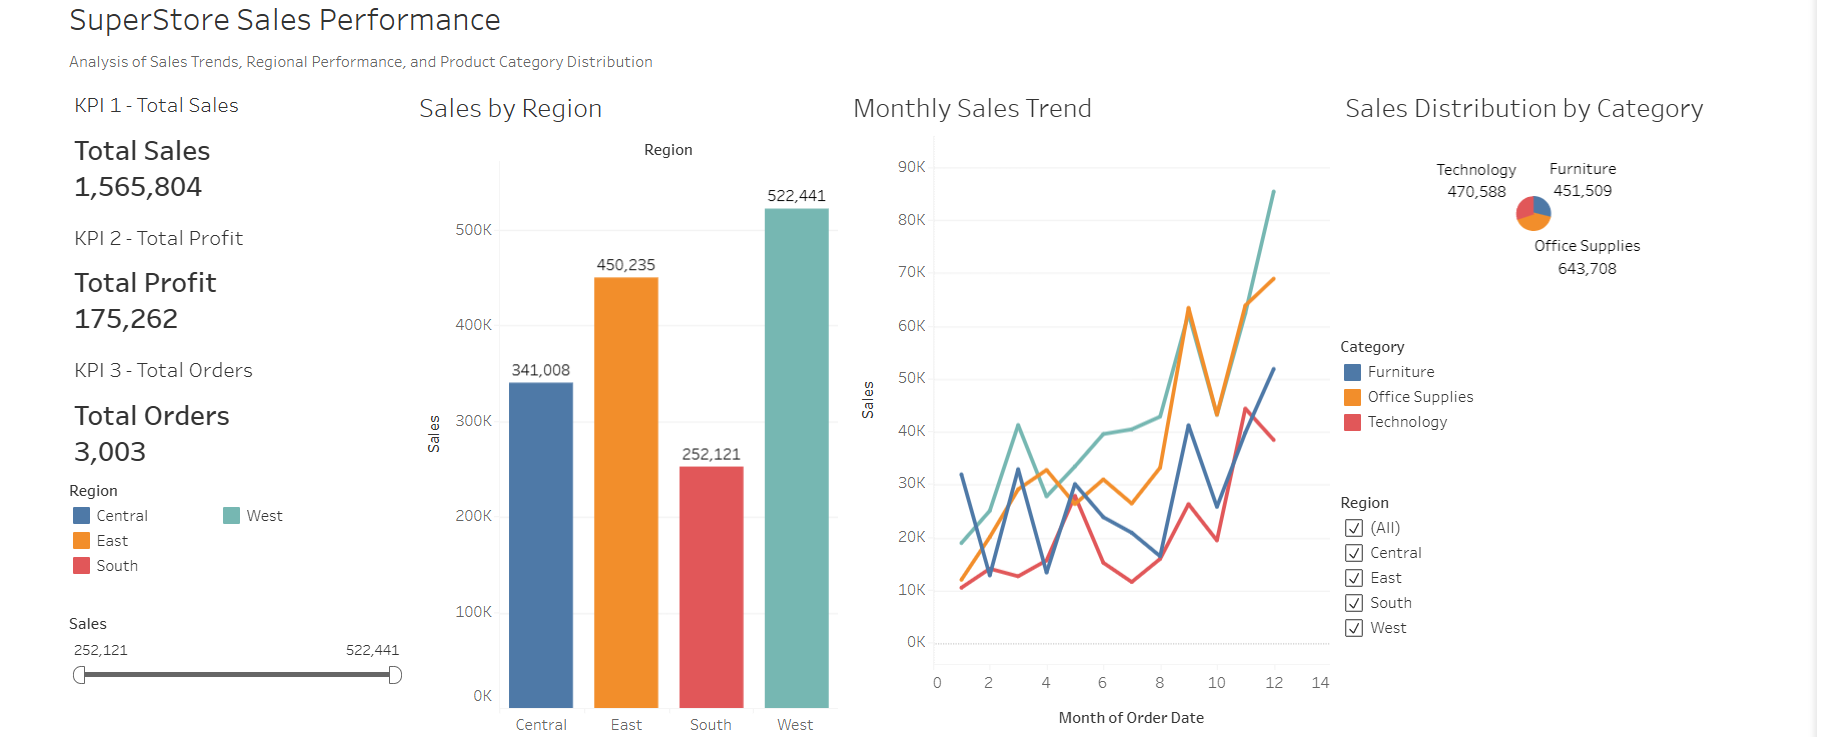

What the dashboard file says about the page in this screenshot:
{"tool":"tableau","page":{"name":"KPI CARD Dashboard","canvas":[1000,1000],"units":"permille","ordinal":0},"visuals":[{"type":"title","box":[5.9,10.5,988.1,56.6]},{"type":"text","box":[5.9,67.1,988.1,38.2]},{"type":"worksheet","title":"KPI 1 - Total Sales ","mark":"Text","box":[5.9,105.3,204.4,181.9]},{"type":"worksheet","title":"Sales by Region","mark":"Bar","rows":["Sales"],"cols":["Region"],"box":[210.4,105.3,257,884.2]},{"type":"worksheet","title":"Monthly Sales Trend","mark":"Line","rows":["Sales"],"cols":["Order Date"],"box":[467.4,105.3,291.9,884.2]},{"type":"worksheet","title":"Sales Distribution by Category","mark":"Pie","box":[759.3,105.3,234.8,377.6]},{"type":"worksheet","title":"KPI 2 - Total Profit ","mark":"Text","box":[5.9,287.2,204.4,181.9]},{"type":"worksheet","title":"KPI 3 - Total Orders ","mark":"Text","box":[5.9,469.1,204.4,181.9]},{"type":"legend","title":"Sales Distribution by Category","param":"[federated.0gc5zgn15yeydn1fw0qmh00zha10].[none:Category:nk]","box":[759.3,482.9,234.8,163.2]},{"type":"filter","title":"Monthly Sales Trend","param":"[federated.0gc5zgn15yeydn1fw0qmh00zha10].[none:Region:nk]","box":[759.3,646.1,234.8,288.2]},{"type":"legend","title":"Monthly Sales Trend","param":"[federated.0gc5zgn15yeydn1fw0qmh00zha10].[none:Region:nk]","box":[5.9,651,204.4,181.9]},{"type":"filter","title":"Sales by Region","param":"[federated.0gc5zgn15yeydn1fw0qmh00zha10].[sum:Sales:qk]","box":[5.9,832.9,204.4,156.6]}]}

Visuals, with their boxes on the dashboard's canvas, which has no fixed pixel size, in thousandths of its width and height (x1, y1, x2, y2). These are canvas units, not pixel positions in the 1832x737 screenshot, which may show the page scaled, cropped or inside an application window:
title: 6,10,994,67
text: 6,67,994,105
"KPI 1 - Total Sales " worksheet (Text marks): 6,105,210,287
"Sales by Region" worksheet (Bar marks): 210,105,467,990
"Monthly Sales Trend" worksheet (Line marks): 467,105,759,990
"Sales Distribution by Category" worksheet (Pie marks): 759,105,994,483
"KPI 2 - Total Profit " worksheet (Text marks): 6,287,210,469
"KPI 3 - Total Orders " worksheet (Text marks): 6,469,210,651
"Sales Distribution by Category" legend: 759,483,994,646
"Monthly Sales Trend" filter: 759,646,994,934
"Monthly Sales Trend" legend: 6,651,210,833
"Sales by Region" filter: 6,833,210,990
